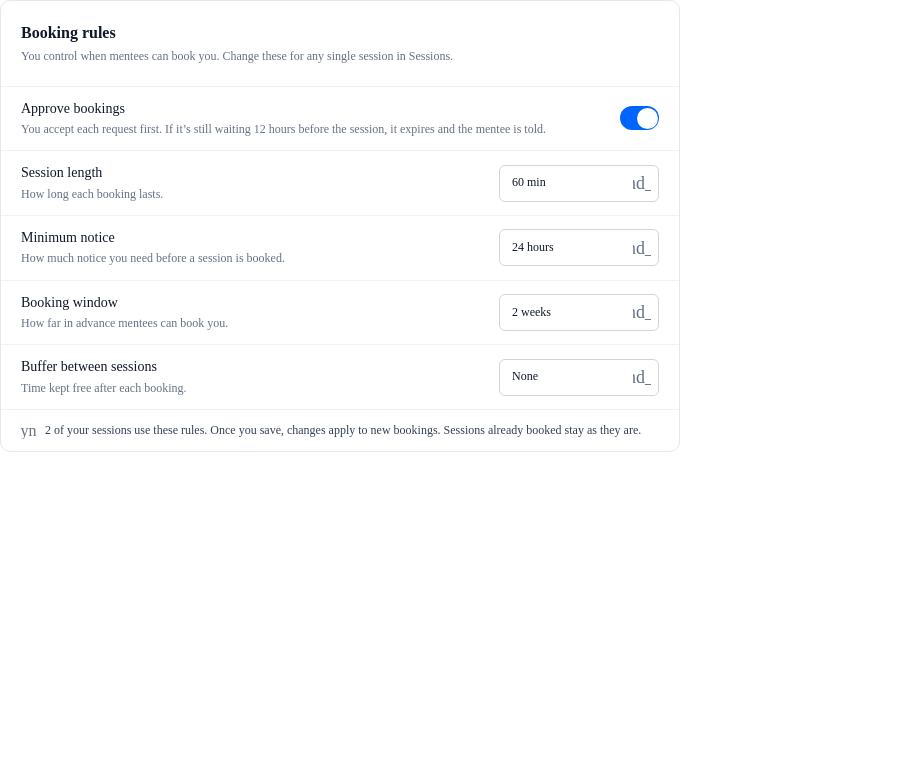
it: BookingPanel › a change raises the bar; Save writes approval and the four rules, then says so
The width and height of the screenshot is (907, 768).
Click the switch.
click(640, 118)  # box [620,106,659,130]
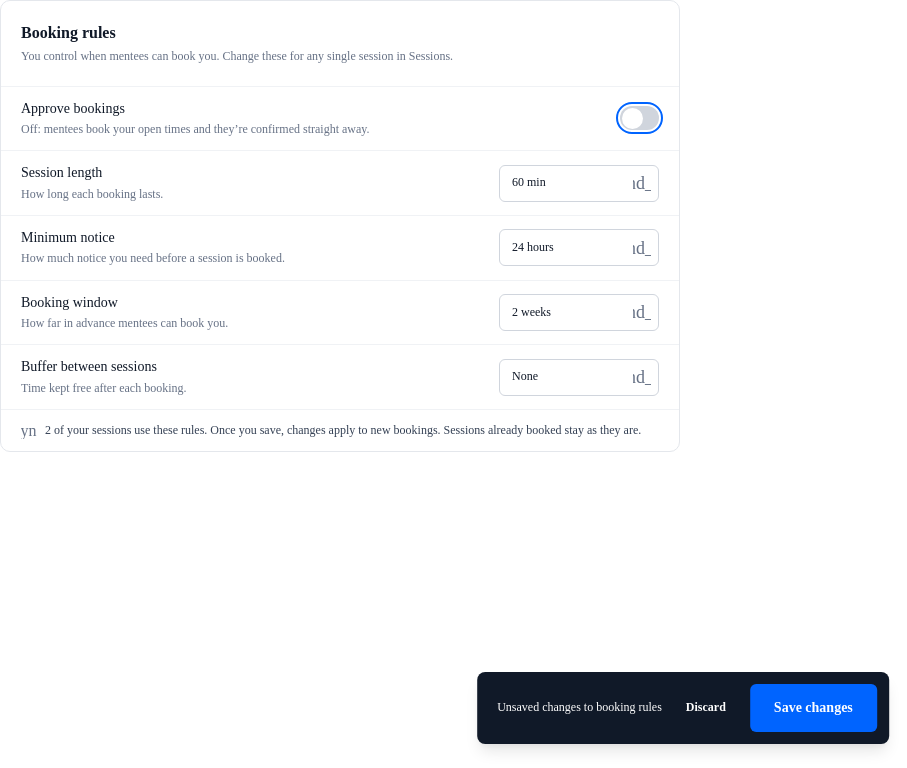
Click the dropdown named "Session length".
click(579, 183)  # box [499,165,659,202]
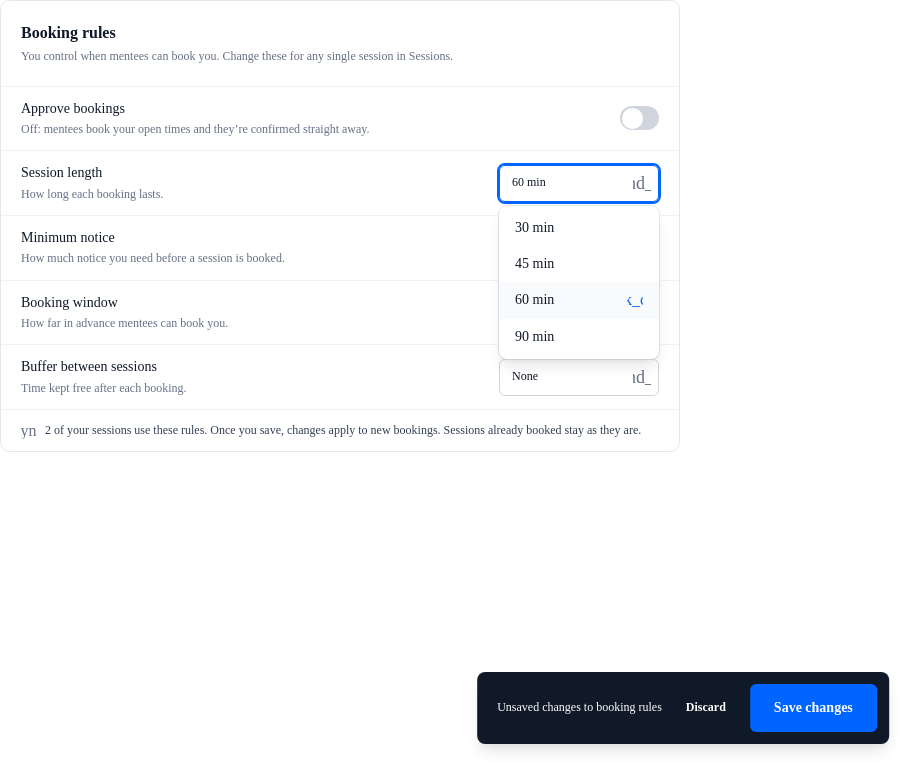
Click the option "90 min".
click(535, 336)  # box [515,328,554,344]
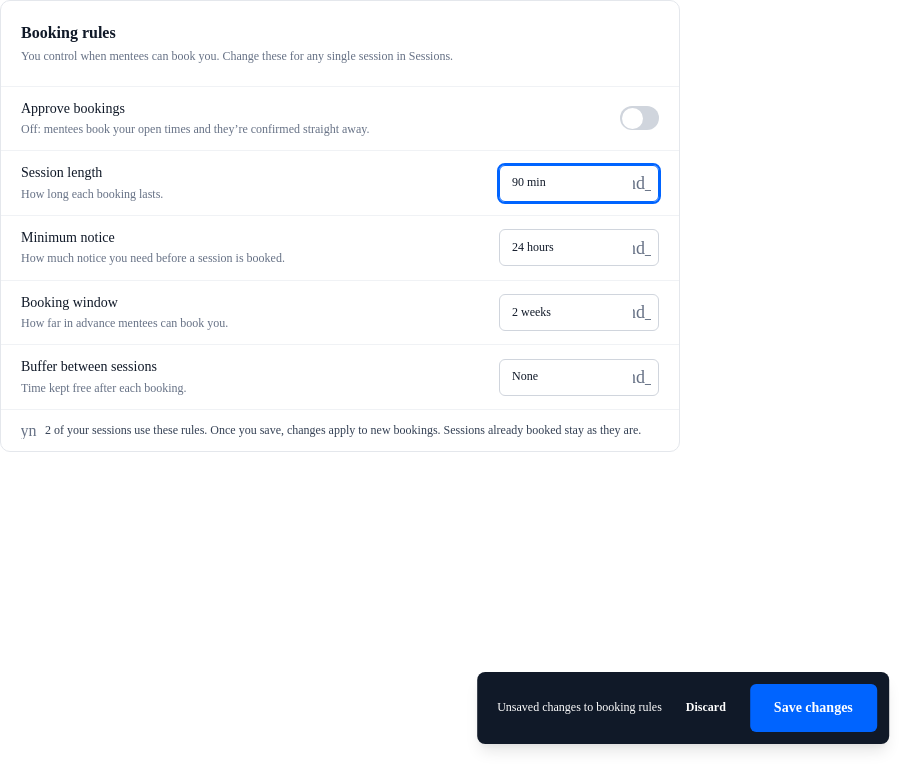
Expected: the element "Unsaved changes" shows "Unsaved changes to booking rules", [497,700,662,714]
Click the button "Save changes".
click(813, 708)  # box [750,684,877,732]
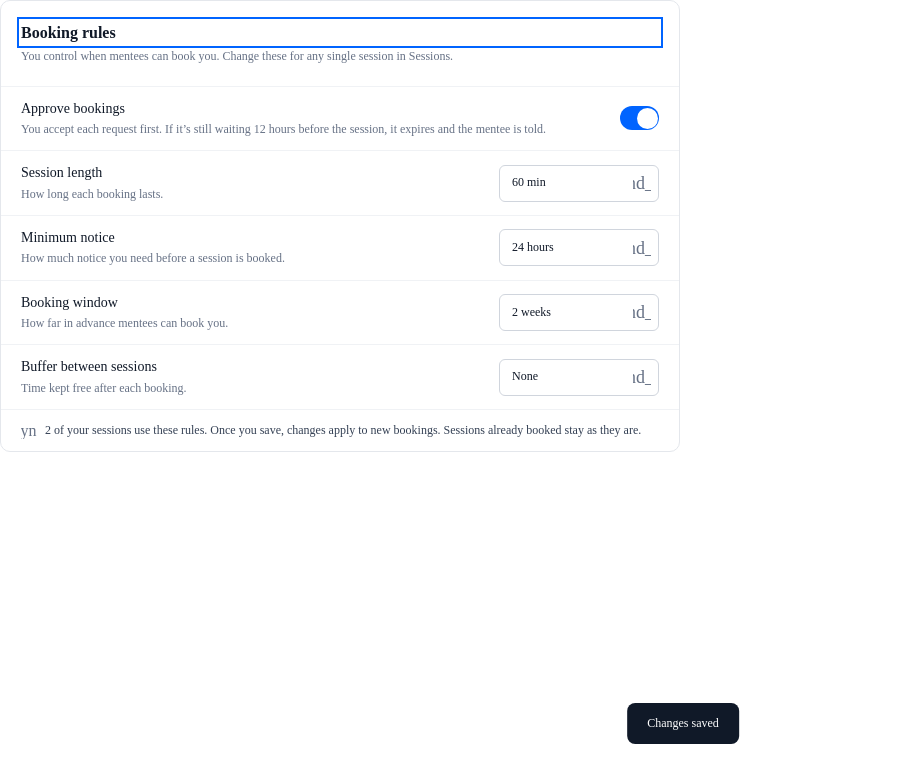
Expected: the text "Changes saved" is shown, [627,703,739,744]
Expected: the text "Unsaved changes" is gone
